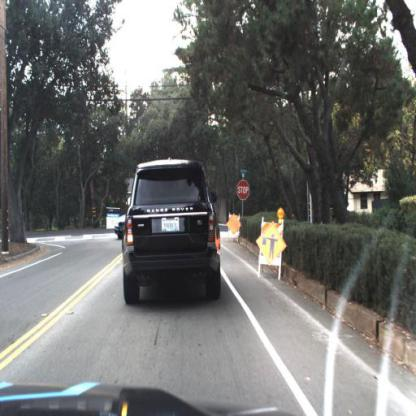car: (120, 157, 224, 310), (111, 210, 127, 240)
